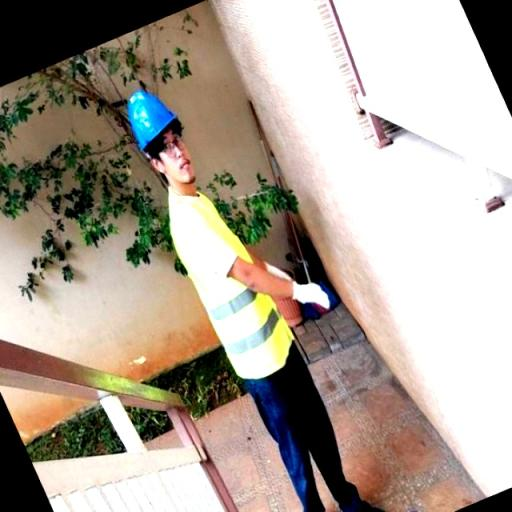gloves: (292, 278, 338, 315), (265, 254, 304, 287)
